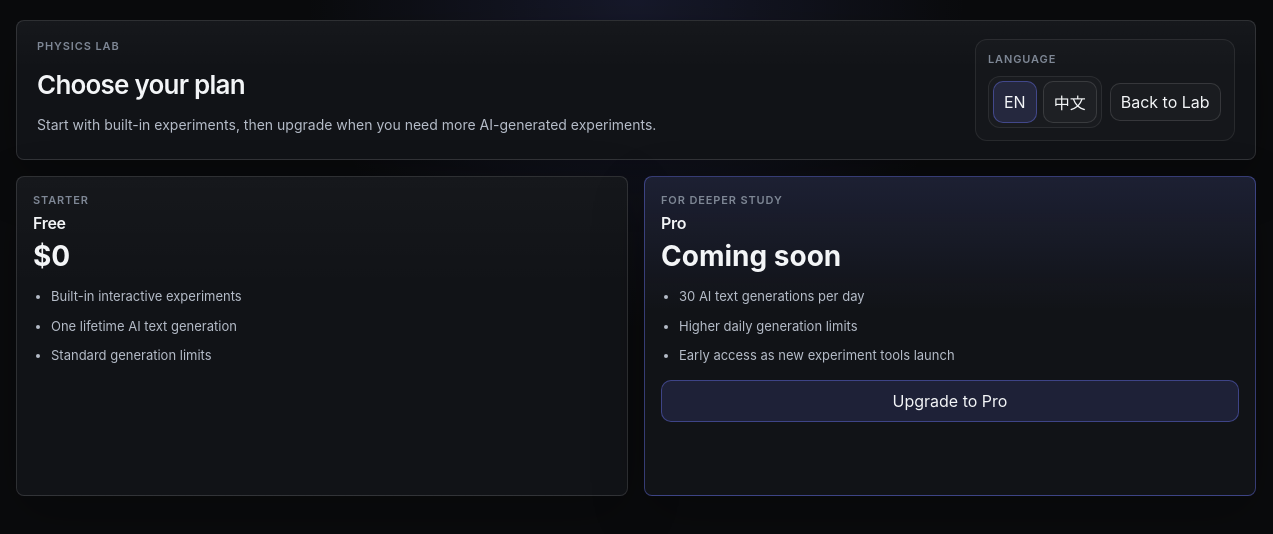
Scenario: App › asks anonymous pricing visitors to sign in before recording Pro interest
The width and height of the screenshot is (1273, 534).
Expected: the heading "Choose your plan" is shown, [37,69,245,100]
Click the button "Upgrade to Pro".
click(950, 400)  # box [661,380,1239,422]
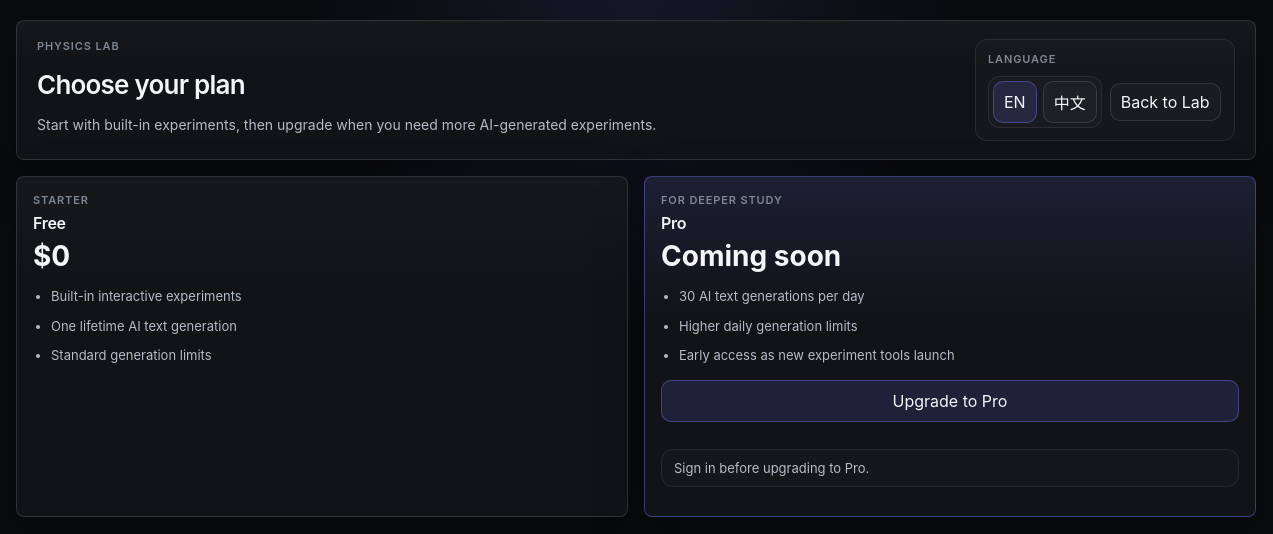
Now the text "Sign in before upgrading to Pro." is shown, box [661,448,1239,486]
